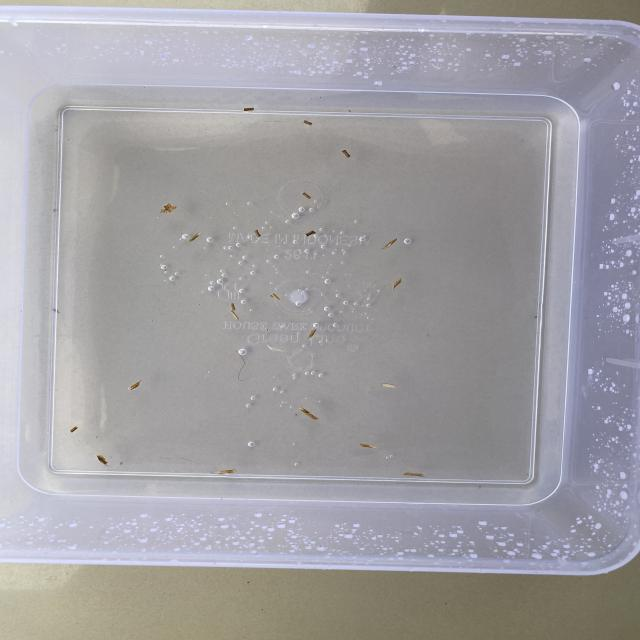Wereng: (292, 406, 326, 423), (226, 299, 248, 325), (185, 227, 210, 248), (386, 272, 408, 293), (399, 467, 429, 482), (299, 228, 327, 243), (87, 452, 113, 468), (378, 236, 400, 254), (211, 468, 241, 481), (157, 202, 181, 218), (263, 289, 287, 305), (333, 148, 360, 162), (377, 379, 402, 394), (128, 376, 150, 393), (248, 224, 266, 244), (295, 115, 320, 129), (309, 325, 326, 343), (242, 103, 262, 118), (354, 438, 374, 452), (64, 426, 82, 438), (298, 190, 318, 200)
